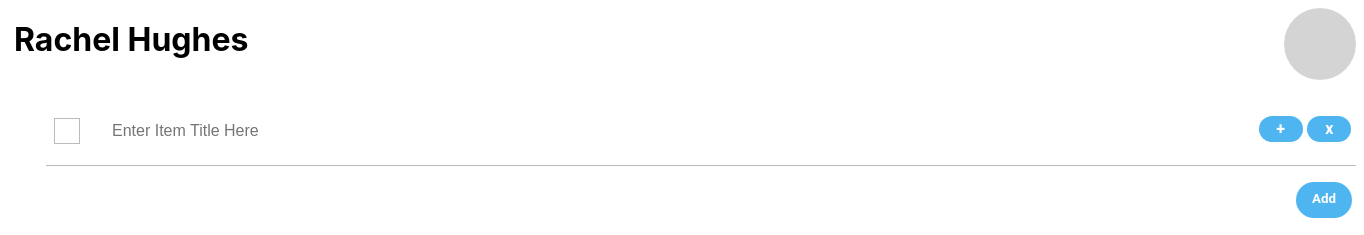
+ button › + button will be removed from document onclick
Click the button "+": click(1281, 129) [1259,116,1303,142]
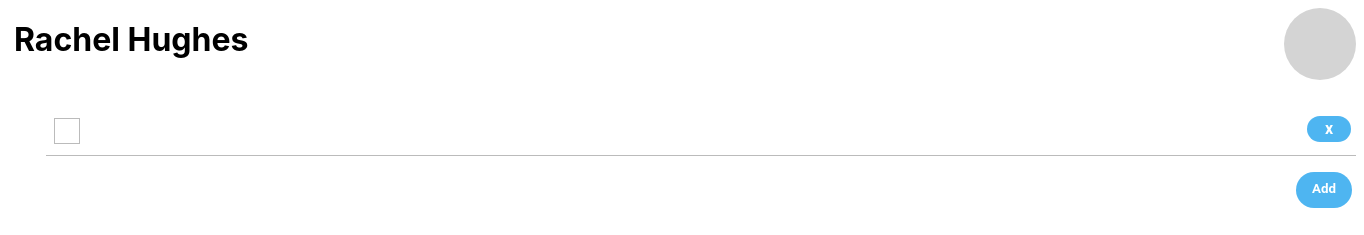
Check: the button "+" is gone
